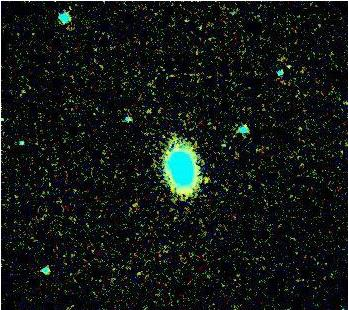star: (193, 165, 223, 195)
